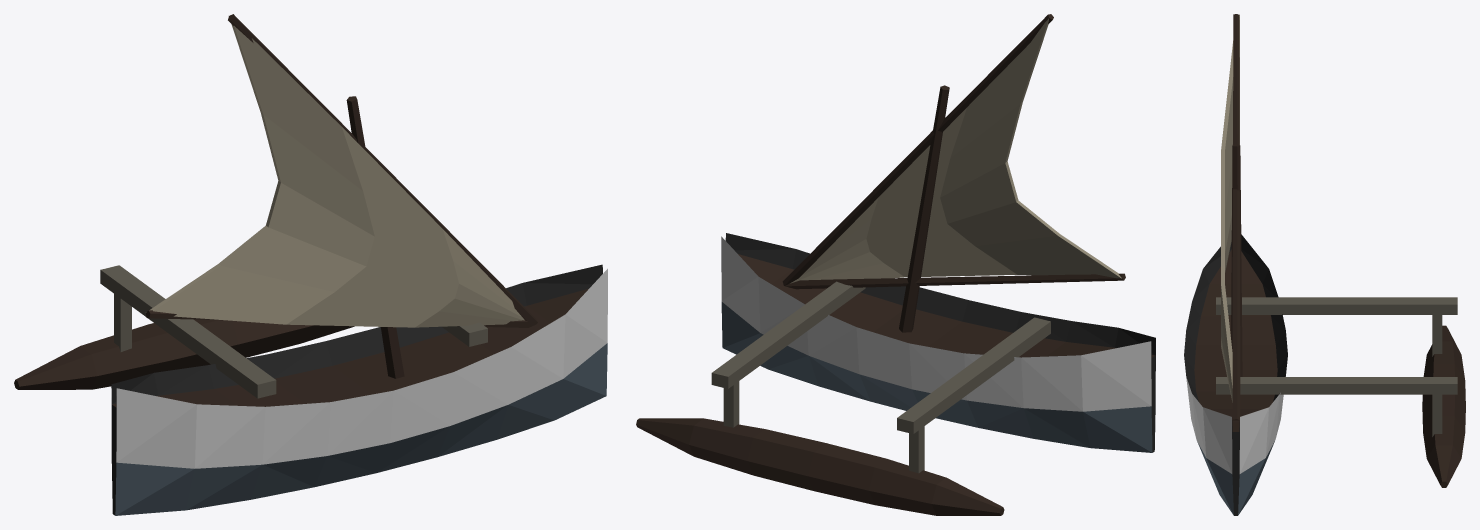
The model's file is outrigger.fjord.glb.
3 renders of one model, left to right at view 1: azimuth 30°, elevation 25°; view 2: azimuth 150°, elevation 25°; view 3: azimuth 270°, elevation 25°, orthographic. The views are drawn at different scales.
Parts seen in each view (by area): view 1: sail, trim, hull, float, mast; view 2: sail, trim, float, hull, mast; view 3: float, trim, hull, mast, sail.
Boxes of the visible parts, x1=… form: sail: x1=146, y1=24, x2=524, y2=327; trim: x1=111, y1=264, x2=607, y2=515; hull: x1=116, y1=268, x2=607, y2=468; float: x1=14, y1=265, x2=487, y2=398; mast: x1=146, y1=14, x2=537, y2=378; sail: x1=790, y1=18, x2=1121, y2=283; trim: x1=721, y1=233, x2=1155, y2=452; float: x1=636, y1=281, x2=1050, y2=515; hull: x1=721, y1=236, x2=1151, y2=411; mast: x1=782, y1=14, x2=1125, y2=332; float: x1=1216, y1=297, x2=1465, y2=487; trim: x1=1184, y1=234, x2=1287, y2=515; hull: x1=1186, y1=377, x2=1283, y2=473; mast: x1=1231, y1=14, x2=1242, y2=420; sail: x1=1221, y1=14, x2=1239, y2=402.
Size of the model in its own units: 1.3 by 1.21 by 0.84.
